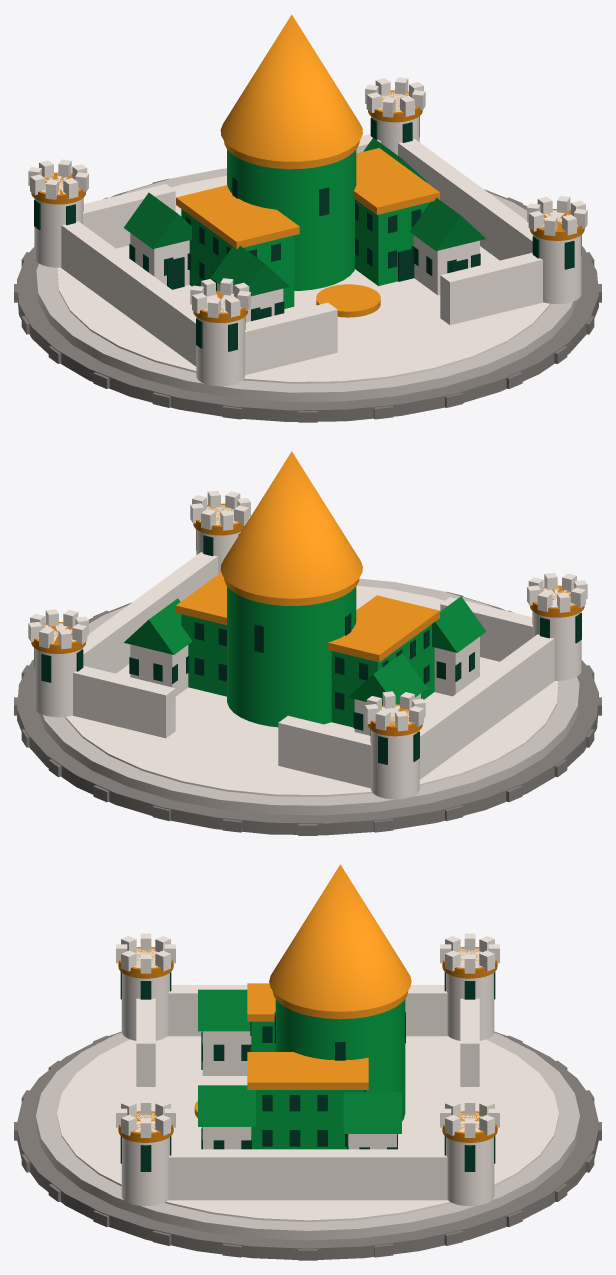
Rendered from city_casework.glb.
3 views of the same model, one above another, from view 1: azimuth 30°, elevation 25°; view 2: azimuth 150°, elevation 25°; view 3: azimuth 270°, elevation 25° (orthographic).
Visible parts, largest first — view 1: city-floor_grey, curtain-wall_white, corner-tower_white, lower-plinth_stone, upper-plinth_white, civic-hall_green, gate-wall_white, civic-hall_white, service-wing_green, courtyard-building_green, service-wing_white, courtyard-building_white (+7 smaller); view 2: curtain-wall_white, city-floor_grey, corner-tower_white, lower-plinth_stone, upper-plinth_white, civic-hall_white, civic-hall_green, courtyard-building_green, service-wing_green, service-wing_white, courtyard-building_white, plinth-tooth_stone (+6 smaller); view 3: city-floor_grey, curtain-wall_white, corner-tower_white, upper-plinth_white, lower-plinth_stone, civic-hall_green, courtyard-building_green, civic-hall_white, service-wing_green, service-wing_white, courtyard-building_white, plinth-tooth_stone (+6 smaller).
Boxes of the visible parts, left/top/right/bottom form: city-floor_grey: left=57, top=175, right=550, bottom=383; curtain-wall_white: left=61, top=134, right=532, bottom=366; corner-tower_white: left=28, top=77, right=587, bottom=386; lower-plinth_stone: left=17, top=180, right=598, bottom=421; upper-plinth_white: left=36, top=168, right=577, bottom=402; civic-hall_green: left=220, top=14, right=362, bottom=161; gate-wall_white: left=245, top=252, right=542, bottom=375; civic-hall_white: left=227, top=149, right=356, bottom=290; service-wing_green: left=176, top=148, right=439, bottom=249; courtyard-building_green: left=123, top=137, right=485, bottom=296; service-wing_white: left=181, top=199, right=429, bottom=308; courtyard-building_white: left=130, top=233, right=479, bottom=322; curtain-wall_white: left=72, top=552, right=554, bottom=788; city-floor_grey: left=65, top=585, right=558, bottom=796; corner-tower_white: left=28, top=490, right=587, bottom=799; lower-plinth_stone: left=17, top=593, right=598, bottom=835; upper-plinth_white: left=38, top=578, right=579, bottom=815; civic-hall_white: left=227, top=586, right=356, bottom=727; civic-hall_green: left=220, top=451, right=362, bottom=598; courtyard-building_green: left=124, top=596, right=486, bottom=705; service-wing_green: left=176, top=572, right=439, bottom=662; service-wing_white: left=181, top=614, right=434, bottom=727; courtyard-building_white: left=130, top=636, right=479, bottom=735; plinth-tooth_stone: left=14, top=591, right=601, bottom=835; city-floor_grey: left=57, top=1036, right=558, bottom=1221; curtain-wall_white: left=168, top=985, right=479, bottom=1200; corner-tower_white: left=116, top=933, right=499, bottom=1206; upper-plinth_white: left=36, top=1032, right=579, bottom=1240; lower-plinth_stone: left=16, top=1031, right=599, bottom=1259; civic-hall_green: left=269, top=864, right=411, bottom=1011; courtyard-building_green: left=198, top=989, right=401, bottom=1133; civic-hall_white: left=275, top=999, right=405, bottom=1121; service-wing_green: left=247, top=983, right=368, bottom=1089; service-wing_white: left=251, top=1021, right=364, bottom=1149; courtyard-building_white: left=202, top=1031, right=396, bottom=1149; plinth-tooth_stone: left=14, top=1035, right=601, bottom=1260.
Size of the model in its own units: 23.59 by 12.09 by 23.59.
